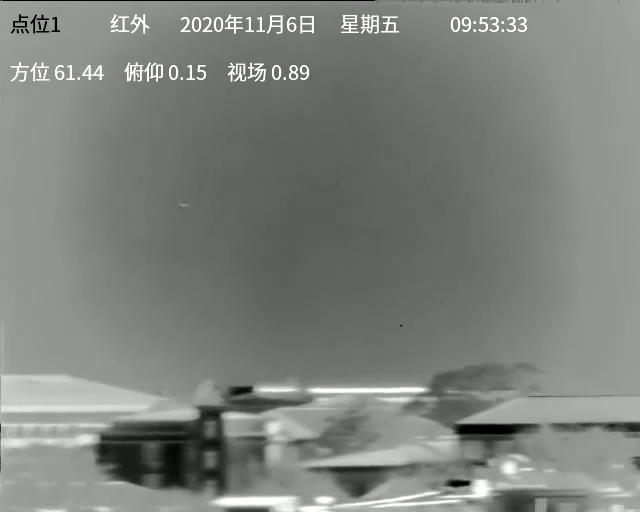uav: (177, 202, 190, 210)
